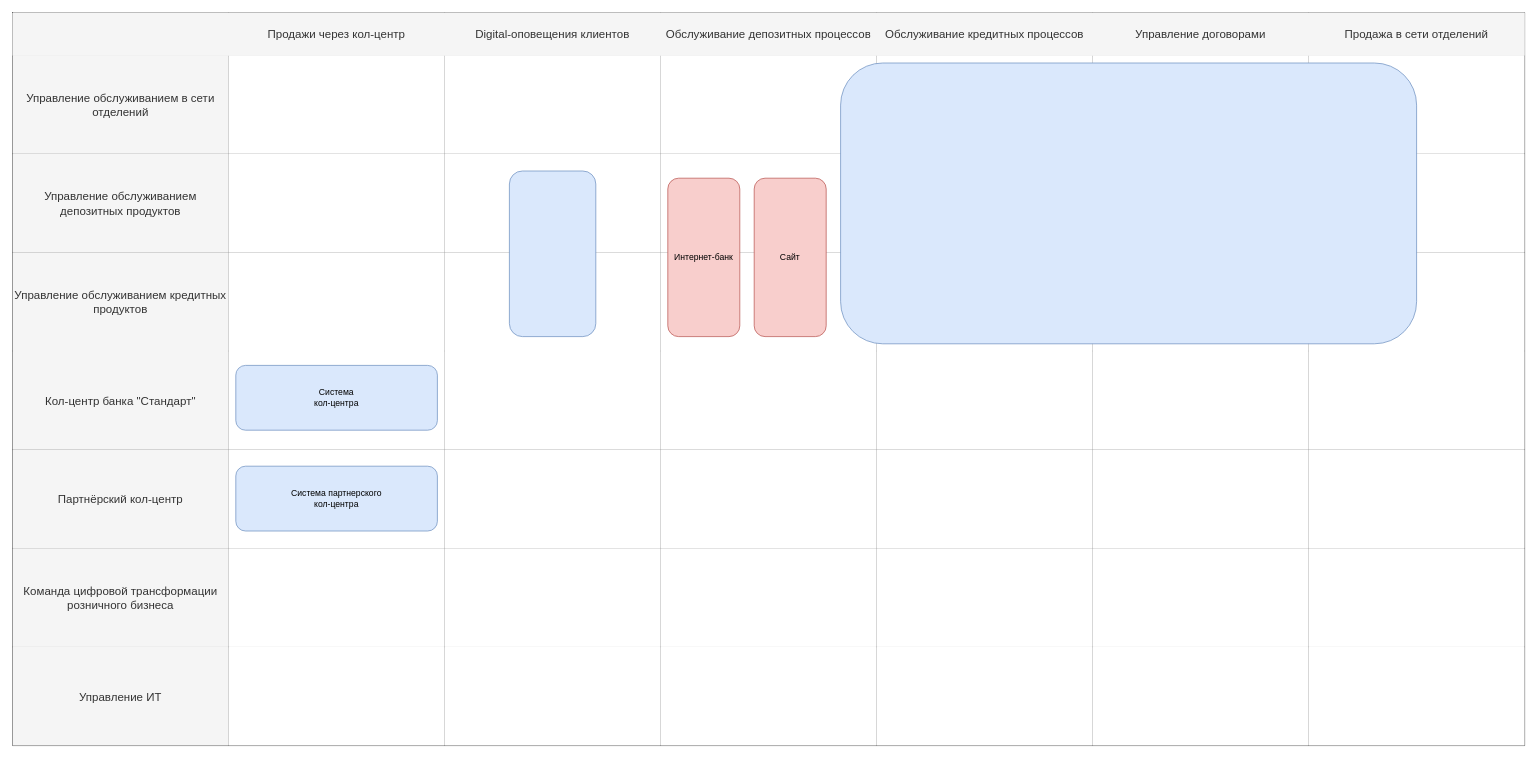
This 1537x758 diagram has some shape labels left out. The shapes that lost their labels are listed below. From the top down, each one's centre as x and y in pixels, then its label:
At (1128,203): "АБС".
At (552,253): "СМС-шлюз телеком-оператора".
